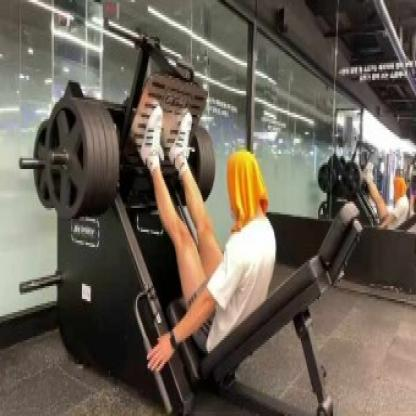leg press: (15, 26, 375, 416)
